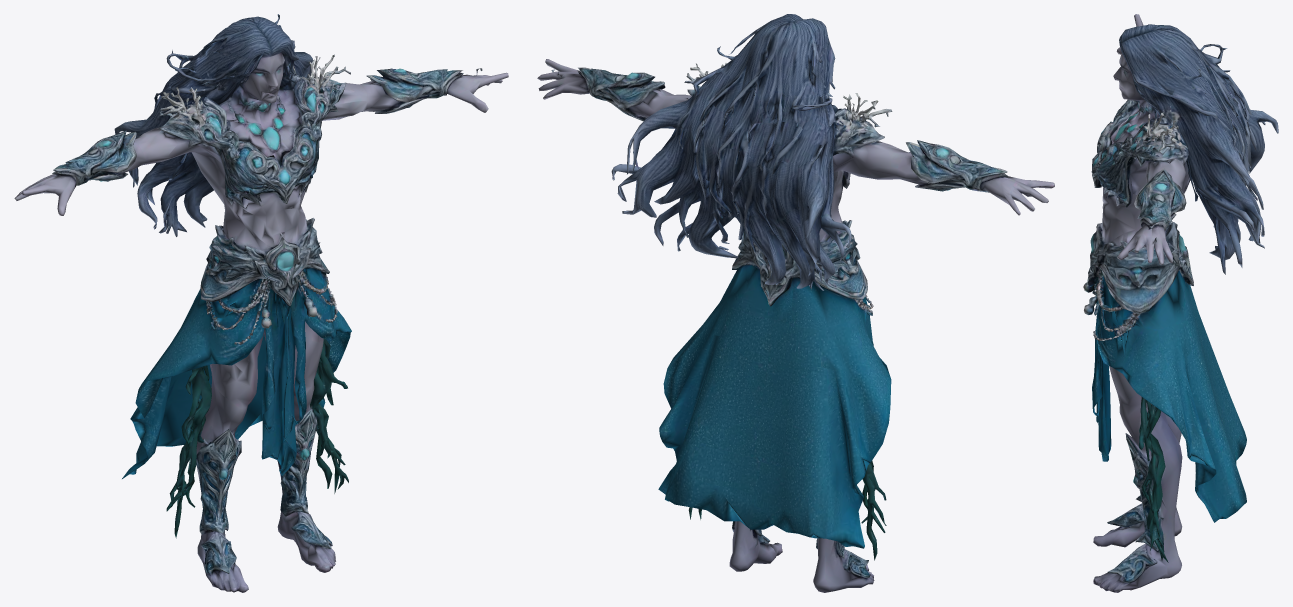
File: thuy-tinh.glb
3 renders of one model, left to right at view 1: azimuth 30°, elevation 25°; view 2: azimuth 150°, elevation 25°; view 3: azimuth 270°, elevation 25°, orthographic. The views are drawn at different scales.
Parts seen in each view (by area): view 1: tripo_node_4ab7aca3-08e0-4793-8a21-7734df45fe89; view 2: tripo_node_4ab7aca3-08e0-4793-8a21-7734df45fe89; view 3: tripo_node_4ab7aca3-08e0-4793-8a21-7734df45fe89.
Part boxes in pixels (box(x1,y1,x2,y2)): tripo_node_4ab7aca3-08e0-4793-8a21-7734df45fe89: box(14, 14, 508, 592); tripo_node_4ab7aca3-08e0-4793-8a21-7734df45fe89: box(537, 14, 1054, 592); tripo_node_4ab7aca3-08e0-4793-8a21-7734df45fe89: box(1083, 14, 1278, 592).
Size of the model in its own units: 0.9259 by 0.9775 by 0.323.
Materials: 1 (1 with a texture image).
